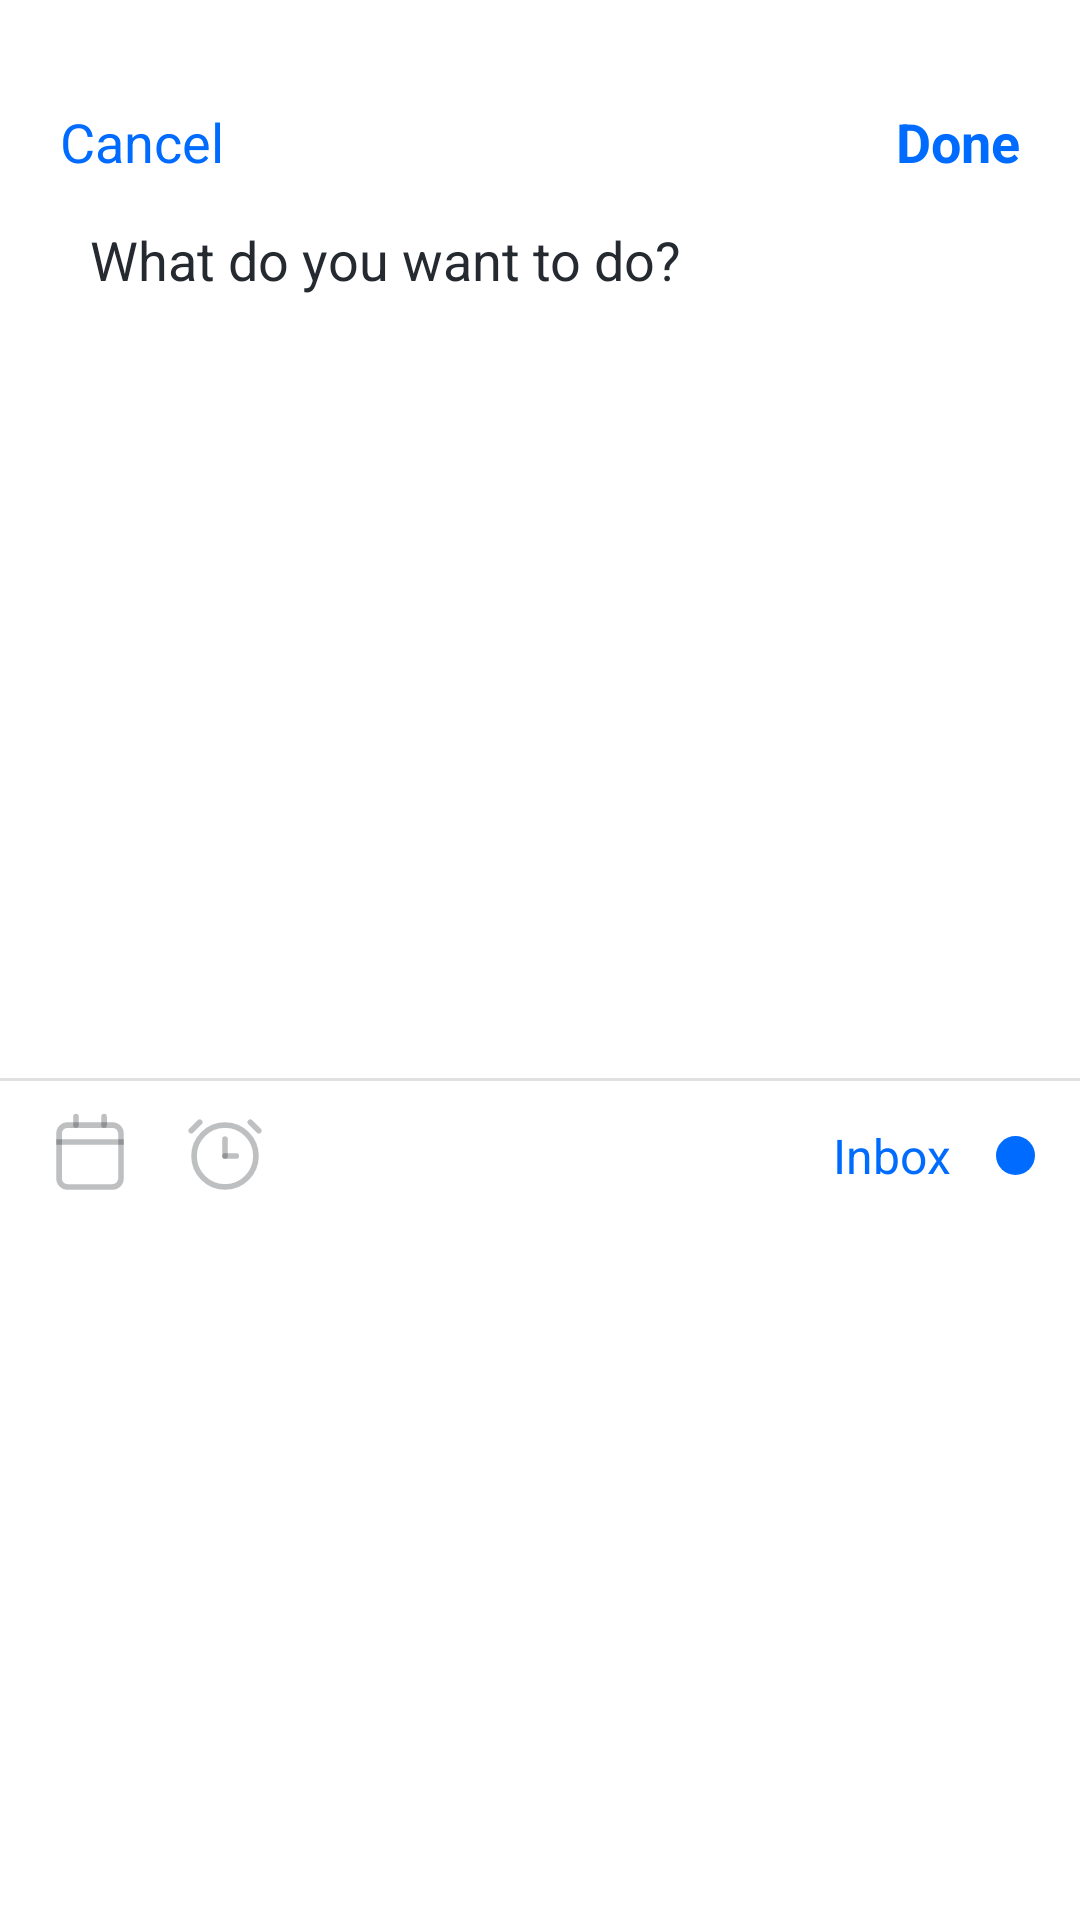

Named icons in this screenshot (1080 x 1920) and their centers, point (x, y):
alarm: point (225, 1154)
calendar: point (90, 1152)
